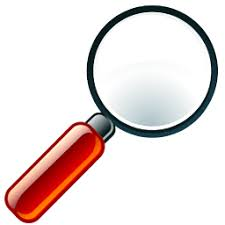searchIcon: (4, 2, 219, 224)
